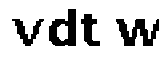d: (47, 7, 79, 48)
t: (80, 11, 105, 50)
v: (9, 15, 45, 49)
w: (112, 12, 160, 52)
